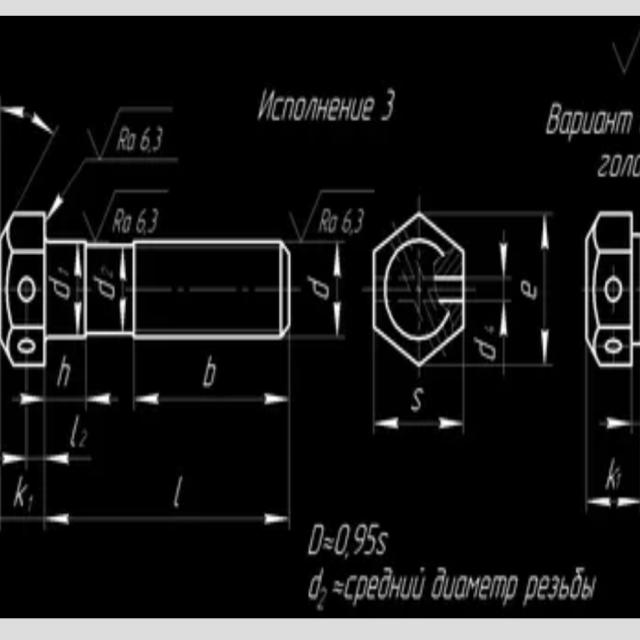marking_line: (46, 514, 288, 527), (136, 392, 288, 407), (541, 221, 554, 364), (16, 391, 119, 409), (376, 412, 460, 434), (497, 235, 509, 364), (71, 244, 85, 338), (115, 248, 130, 333), (334, 245, 345, 340), (3, 454, 91, 464), (589, 493, 640, 510)
numeric: (380, 85, 398, 124), (335, 523, 351, 563), (351, 523, 367, 559), (145, 203, 159, 238), (338, 204, 352, 235), (139, 126, 153, 157), (149, 123, 162, 155), (134, 207, 147, 236), (364, 523, 375, 556), (354, 207, 365, 238)
